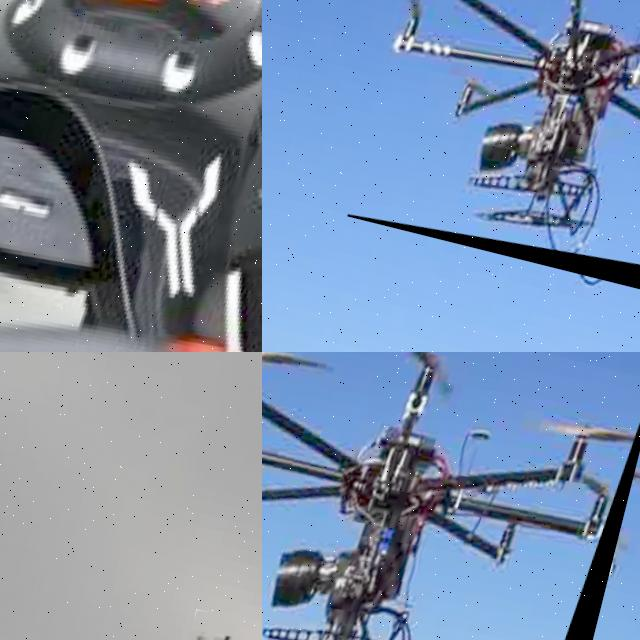0: (262, 352, 640, 640), (346, 0, 640, 300), (176, 609, 262, 640)
drone: (0, 0, 262, 352)
